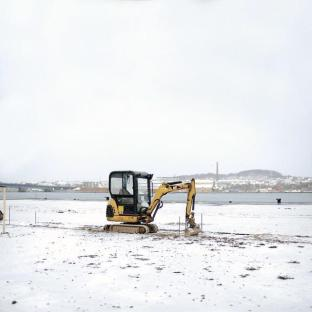ExcavationMachinery: (103, 165, 205, 237)
